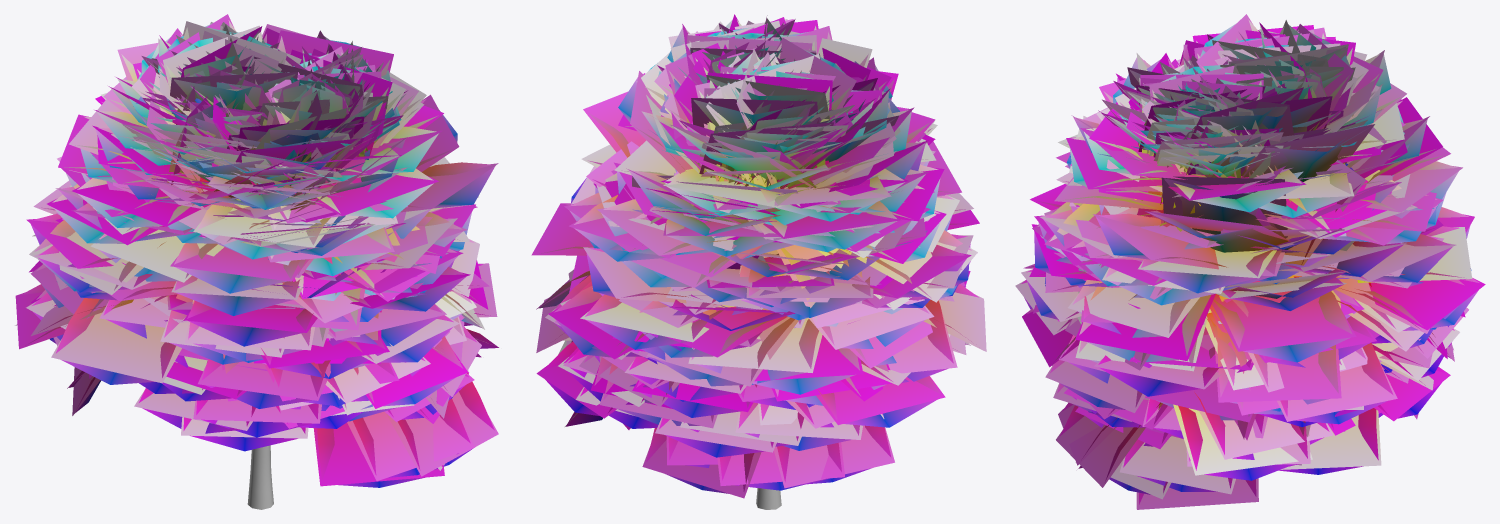
Rendered from oak_01_4.fbx.
3 views of the same model, side by side, from view 1: azimuth 30°, elevation 25°; view 2: azimuth 150°, elevation 25°; view 3: azimuth 270°, elevation 25° (orthographic). The views are drawn at different scales.
Parts seen in each view (by area): view 1: oak_leaves_01_4_shadow, oak_leaves_01_4_lod_0, oak_tree_01_4_lod_0; view 2: oak_leaves_01_4_shadow, oak_leaves_01_4_lod_0; view 3: oak_leaves_01_4_shadow, oak_leaves_01_4_lod_0.
Boxes of the visible parts, x1=… form: oak_leaves_01_4_shadow: x1=15, y1=14, x2=498, y2=486; oak_leaves_01_4_lod_0: x1=21, y1=20, x2=498, y2=487; oak_tree_01_4_lod_0: x1=247, y1=445, x2=273, y2=509; oak_leaves_01_4_shadow: x1=531, y1=14, x2=986, y2=498; oak_leaves_01_4_lod_0: x1=538, y1=18, x2=978, y2=493; oak_leaves_01_4_shadow: x1=1015, y1=14, x2=1485, y2=509; oak_leaves_01_4_lod_0: x1=1021, y1=19, x2=1479, y2=504.
Size of what is drawn, in the model's own units: 7.79 by 7.78 by 7.59.
